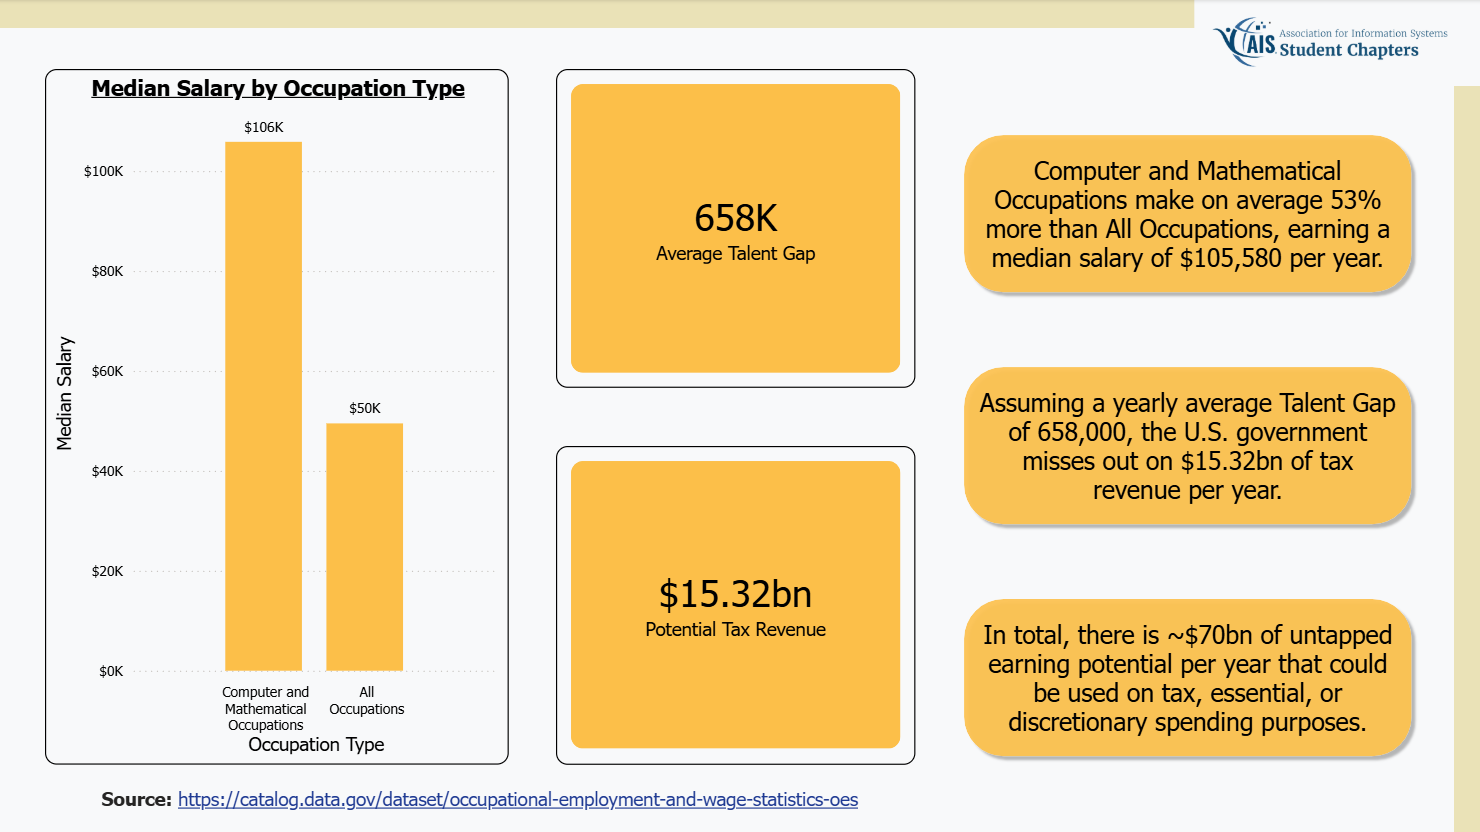

This screenshot's page, from the dashboard's own definition file:
{"tool":"powerbi","page":{"name":"Earning Potential","canvas":[1280,720],"ordinal":7},"visuals":[{"type":"image","box":[1030.6,0,249.4,75.3],"z":0},{"type":"shape","box":[0,0,1031,25.4],"z":1000},{"type":"shape","box":[1254.6,75.3,25.4,644.7],"z":2000},{"type":"columnChart","title":"Median Salary by Occupation Type","fields":{"Category":["aissclc itworkforce.Occupation"],"Y":["Sum(aissclc itworkforce.MedianSalary)"]},"box":[40,60,400,600],"z":3000},{"type":"cardVisual","fields":{"Data":["aissclc itopens.Avg. Talent Gap"]},"box":[480,60,310,275],"z":4000},{"type":"cardVisual","fields":{"Data":["aissclc itopens.Potential Tax Revenue"]},"box":[480,385.4,310,274.8],"z":5000},{"type":"shape","box":[825.2,110,399.9,149.6],"z":6000},{"type":"shape","box":[825.2,510.5,399.9,149.6],"z":7000},{"type":"shape","box":[825.2,310.1,399.9,149.6],"z":8000},{"type":"textbox","box":[39.9,675,750,40],"z":9000}]}

Visuals, with their boxes in screenshot pixels (x1, y1, x2, y2), scaled from the page's 1280x720 canvas onto the 1480x832 screenshot:
image: <bbox>1192, 0, 1479, 87</bbox>
shape: <bbox>0, 0, 1192, 29</bbox>
shape: <bbox>1451, 87, 1479, 831</bbox>
"Median Salary by Occupation Type" columnChart: <bbox>46, 69, 509, 763</bbox>
cardVisual - aissclc itopens.Avg. Talent Gap: <bbox>555, 69, 913, 387</bbox>
cardVisual - aissclc itopens.Potential Tax Revenue: <bbox>555, 445, 913, 763</bbox>
shape: <bbox>954, 127, 1417, 300</bbox>
shape: <bbox>954, 590, 1417, 763</bbox>
shape: <bbox>954, 358, 1417, 531</bbox>
textbox: <bbox>46, 780, 913, 826</bbox>
